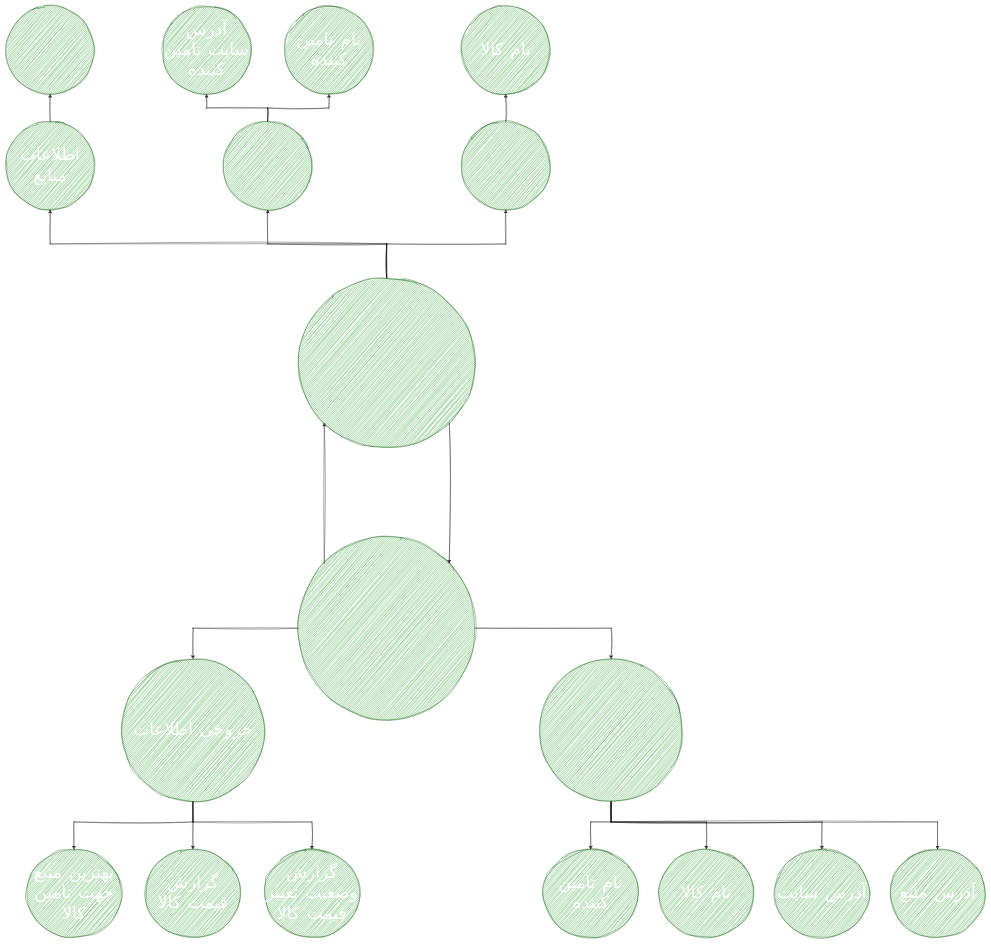
This 991x944 diagram has some shape labels left out. Each missing label, with the box of its shape:
اطلاعات تامین کننده: (223, 121, 312, 210)
اطلاعات کالا: (461, 121, 550, 210)
ذخیره سازی اطلاعات: (298, 278, 475, 448)
نام منبع: (6, 6, 94, 94)
ورودی اطلاعات: (539, 658, 683, 802)
پردازش: (298, 536, 475, 720)
